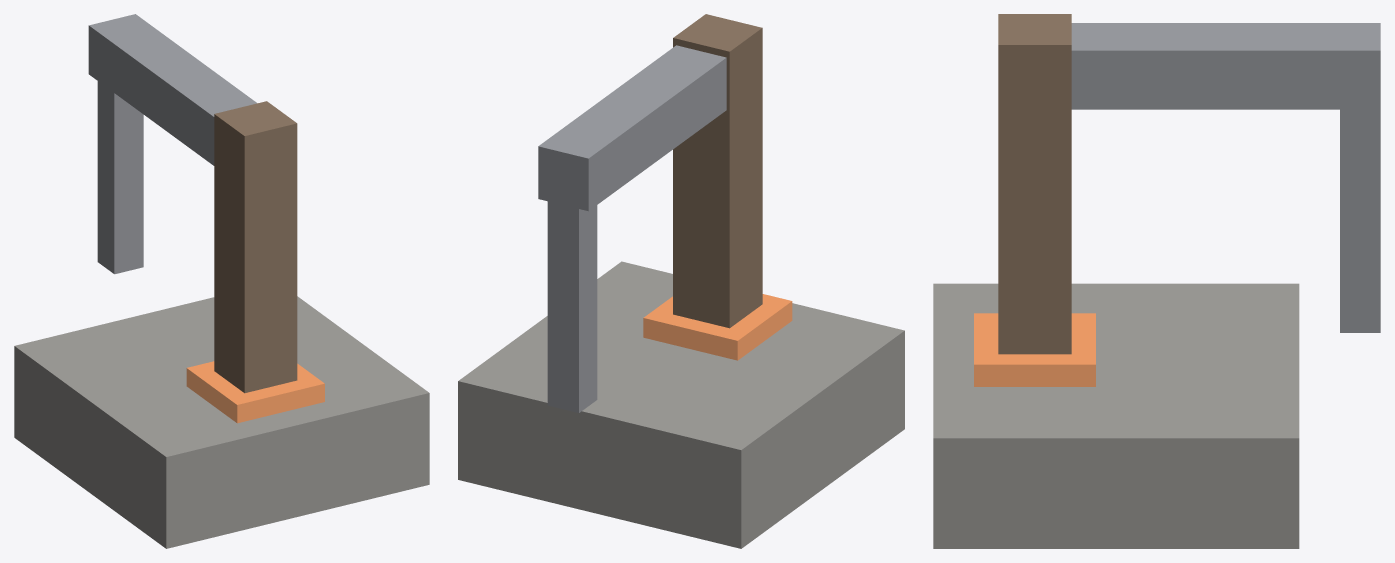
The model's file is build_feller.glb.
3 views of the same model, side by side, from view 1: azimuth 30°, elevation 25°; view 2: azimuth 150°, elevation 25°; view 3: azimuth 270°, elevation 25° (orthographic). The views are drawn at different scales.
Parts seen in each view (by area): view 1: Baked; view 2: Baked; view 3: Baked.
Boxes of the visible parts, left/top/right/bottom form: Baked: left=14, top=14, right=429, bottom=548; Baked: left=458, top=14, right=904, bottom=548; Baked: left=933, top=14, right=1380, bottom=548.
Size of the model in its own units: 0.9 by 1.2 by 1.1.
